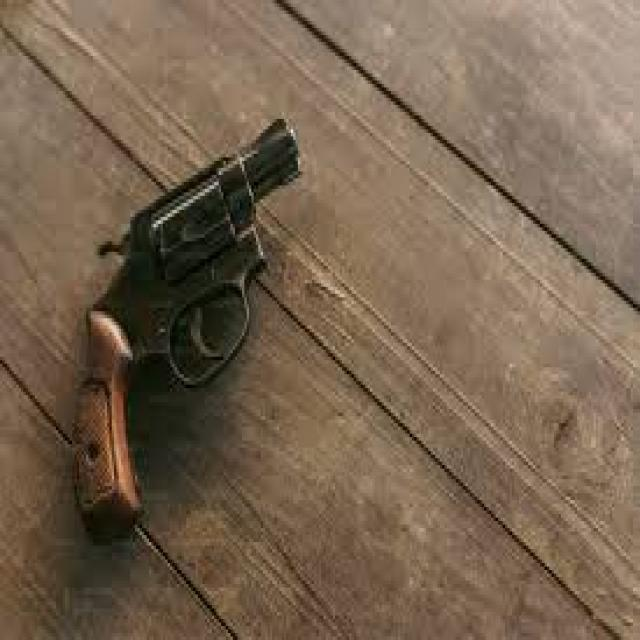gun: (72, 99, 316, 535)
